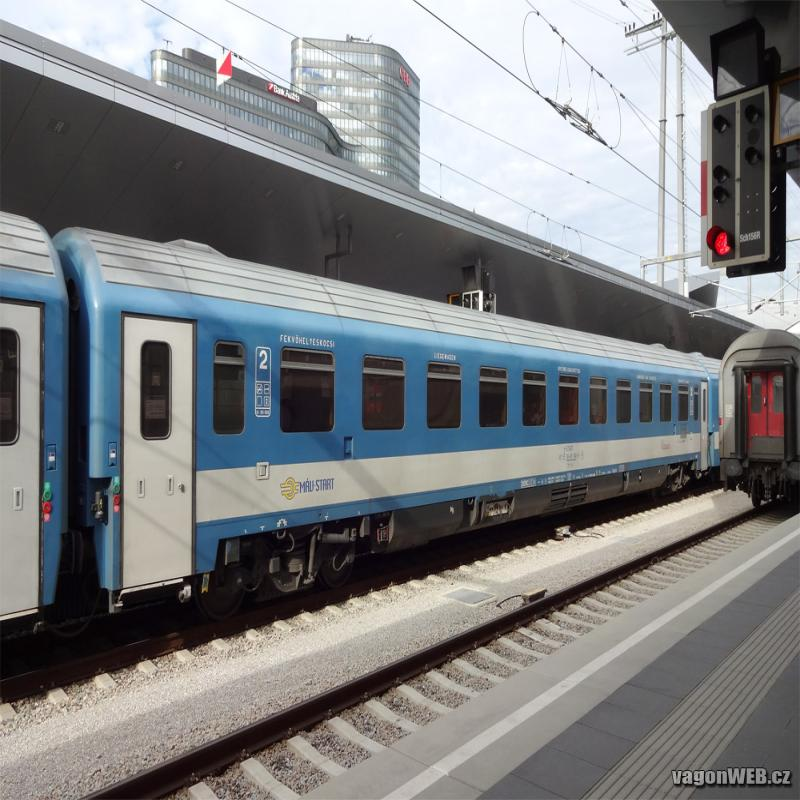train: (60, 228, 711, 659)
